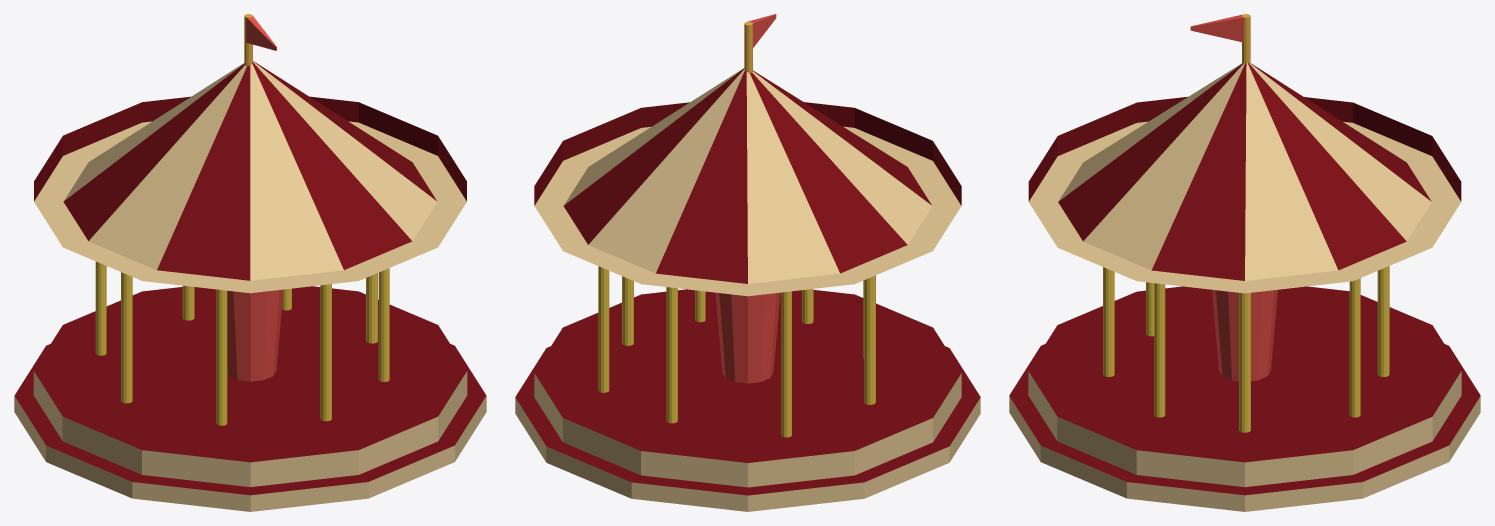
The model's file is brinquedo.fbx.
3 views of the same model, side by side, from view 1: azimuth 30°, elevation 25°; view 2: azimuth 150°, elevation 25°; view 3: azimuth 270°, elevation 25° (orthographic).
Parts seen in each view (by area): view 1: Cylinder.004, Cone; view 2: Cylinder.004, Cone; view 3: Cylinder.004, Cone.
Boxes of the visible parts, <box> form: Cylinder.004: <box>14,261,486,511</box>; Cone: <box>34,14,466,381</box>; Cylinder.004: <box>515,266,980,511</box>; Cone: <box>534,14,961,383</box>; Cylinder.004: <box>1009,266,1480,511</box>; Cone: <box>1028,14,1461,380</box>.
Size of the model in its own units: 836 by 775 by 836.
